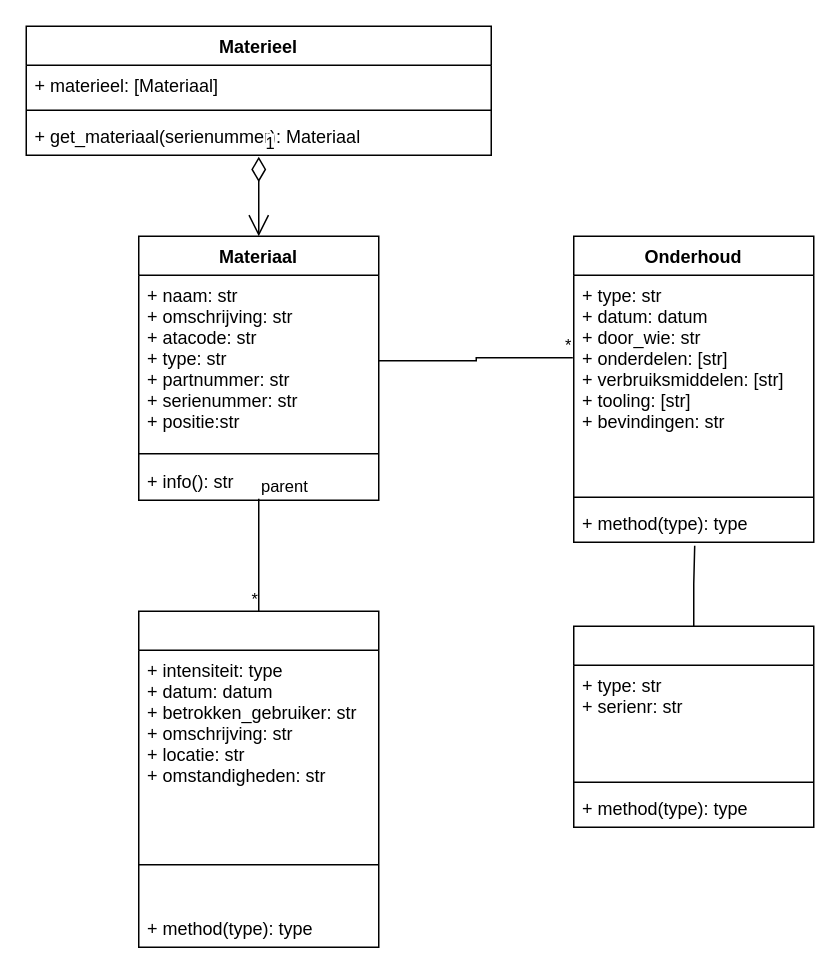
This 840x978 diagram has some shape labels left out. The shapes that lost their labels are listed below. From the top down, each one's box as (x1, y1, x2, y2) in pixels, then its label:
(572, 625, 814, 827): Tool
(137, 610, 379, 947): Gebeurtenis
